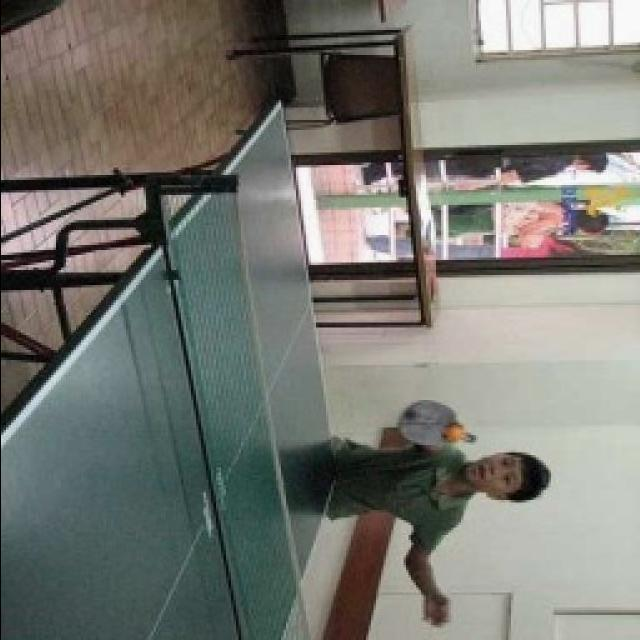oball: (444, 426, 466, 440)
